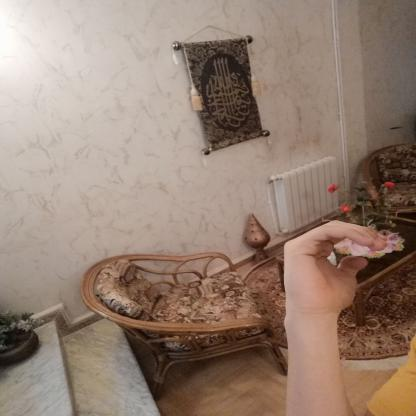JEEM: (265, 212, 402, 327)
